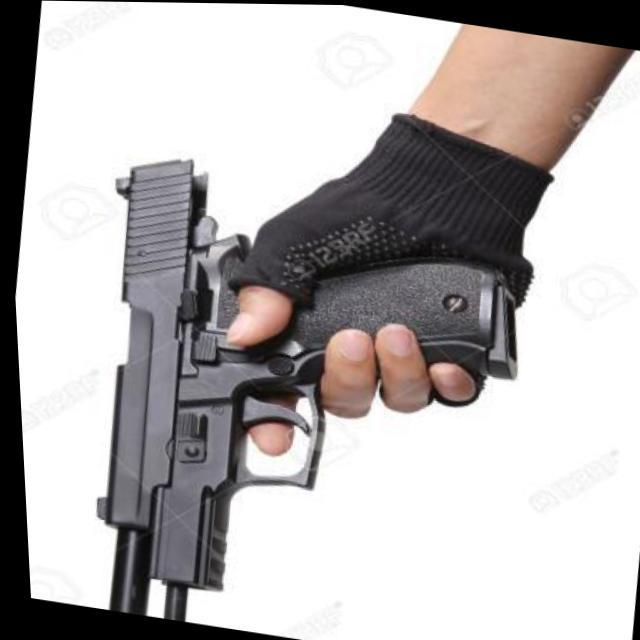weapon: (44, 134, 554, 640)
